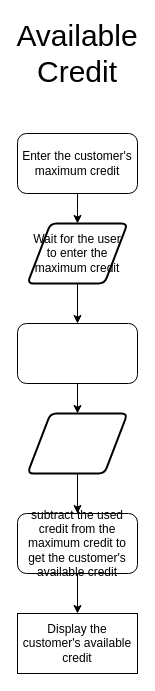
This 155x691 diagram has some shape labels left out. The centre of each missing label's shape, as x and y in pixels:
"Enter the amount of credit used by the customer" belongs at pixel 77 353.
"Wait for the user to enter the customers credit used" belongs at pixel 77 443.
